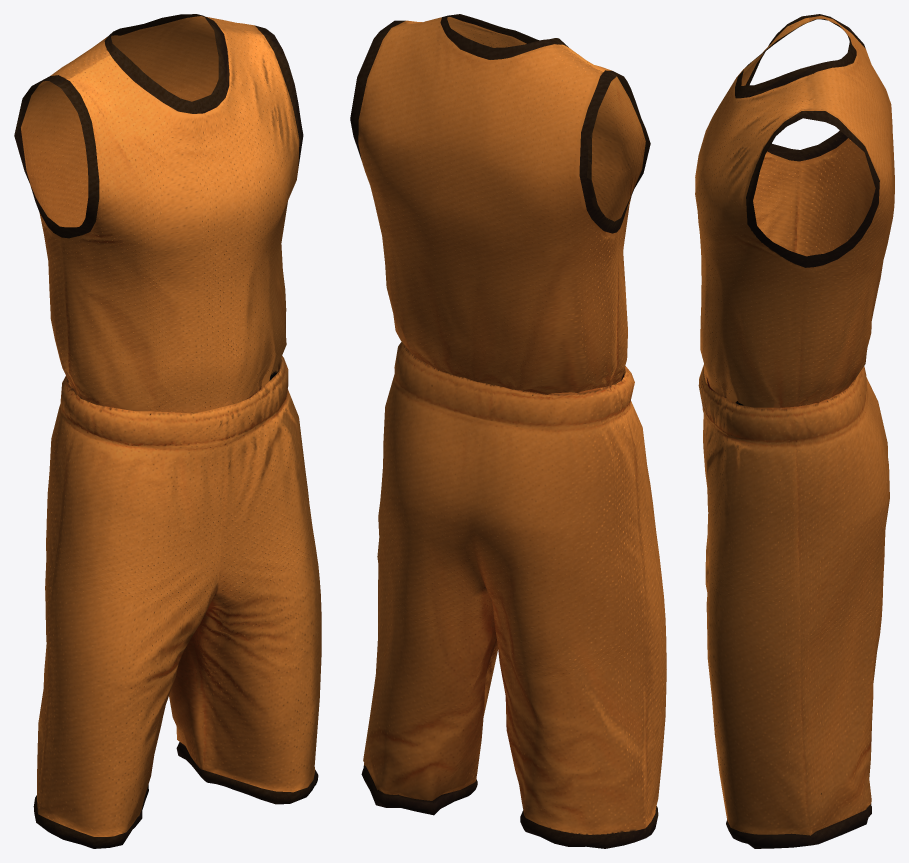
File: Basic_Jersey_1.gltf
3 renders of one model, left to right at view 1: azimuth 30°, elevation 25°; view 2: azimuth 150°, elevation 25°; view 3: azimuth 270°, elevation 25°, orthographic. The views are drawn at different scales.
Parts seen in each view (by area): view 1: Normal_Neck; view 2: Normal_Neck; view 3: Normal_Neck.
Boxes of the visible parts, x1,y1,x2,y2 form: Normal_Neck: (14,14,321,848); Normal_Neck: (350,14,666,848); Normal_Neck: (695,14,894,848).
Size of the model in its own units: 1.64 by 4.49 by 1.08.
Materials: 2 (2 with a texture image).
